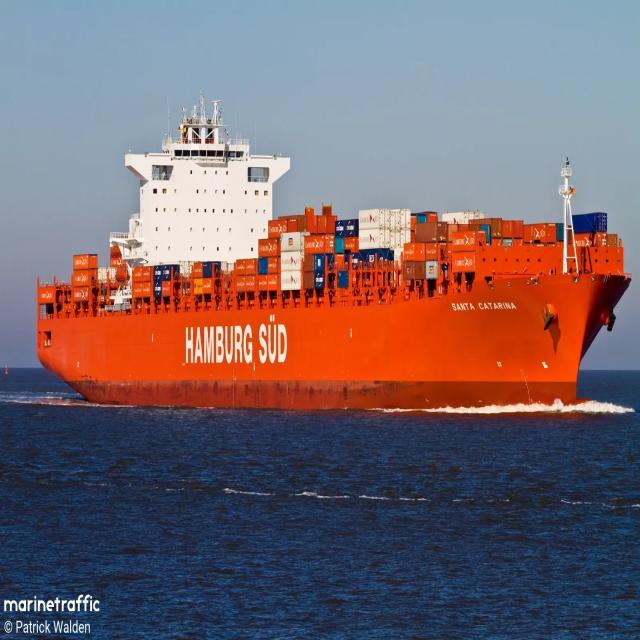Cargo: (36, 95, 631, 408)
